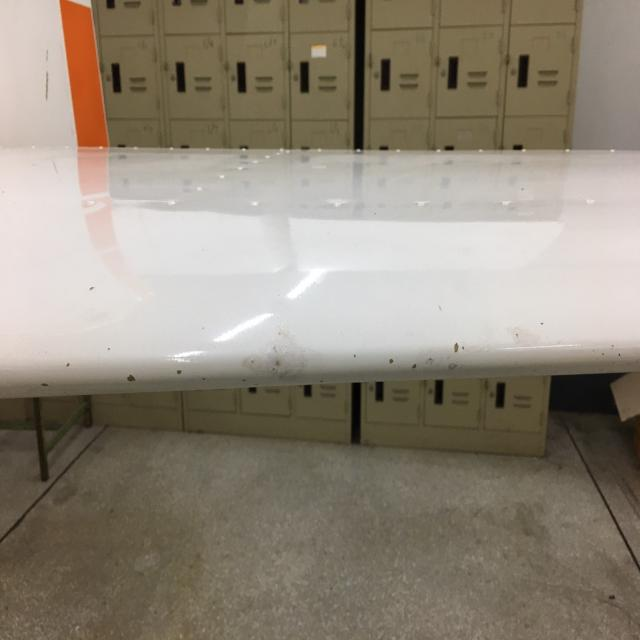Rupture: (11, 336, 196, 402), (352, 326, 492, 387), (506, 308, 620, 379), (238, 323, 314, 398)
